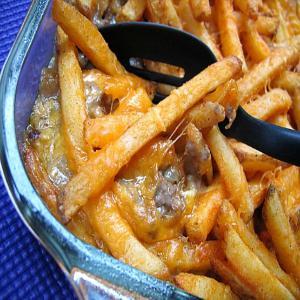fries: (43, 5, 300, 299)
